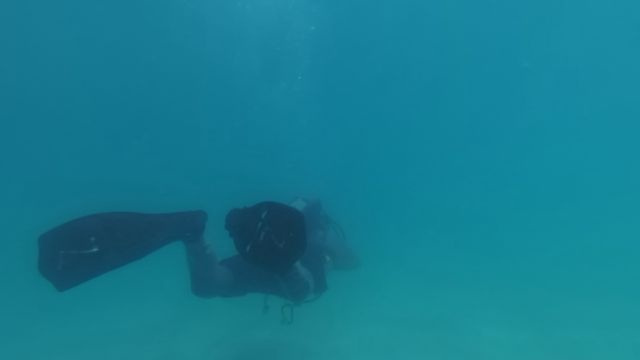Diver: (33, 192, 381, 331)
